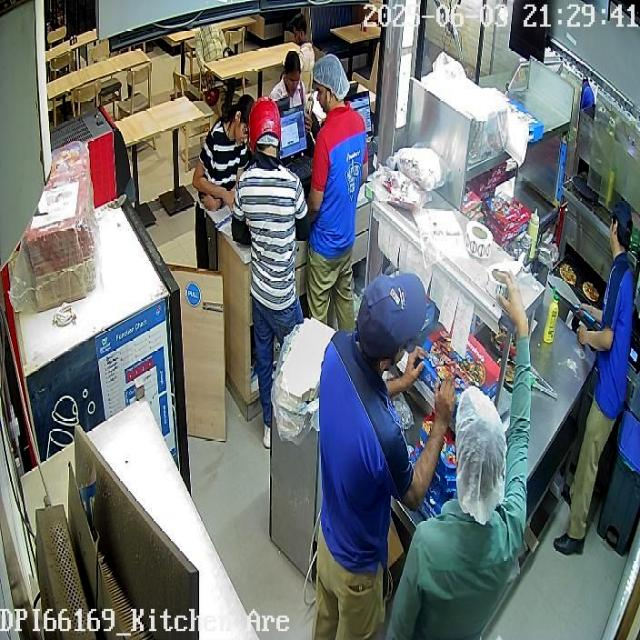helmet: (248, 97, 281, 156)
